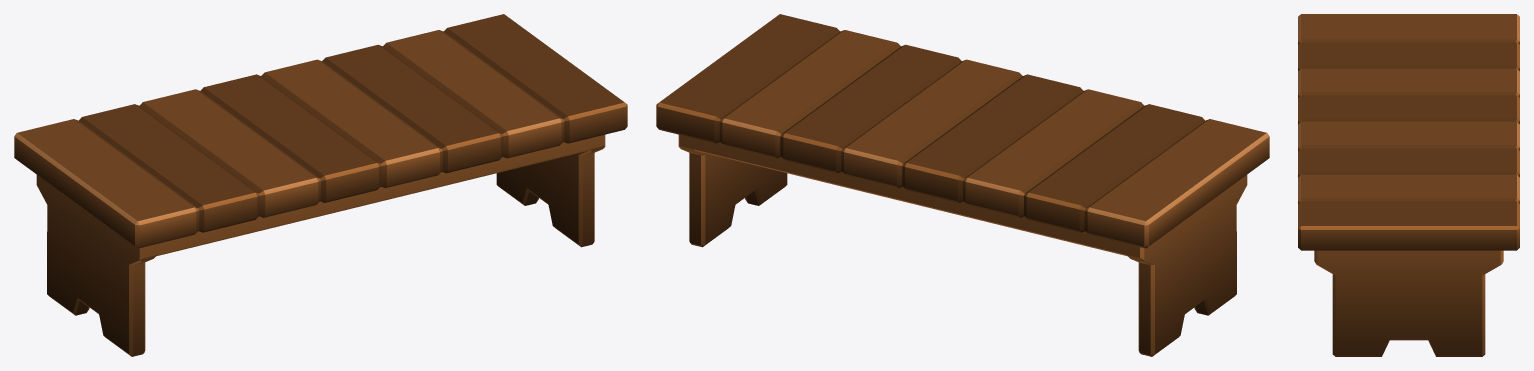
Rendered from Table-2-1.fbx.
The picture shows the model from 3 angles, left to right: view 1: azimuth 30°, elevation 25°; view 2: azimuth 150°, elevation 25°; view 3: azimuth 270°, elevation 25°; orthographic projection. The views are drawn at different scales.
Visible parts, largest first — view 1: Table-2-1; view 2: Table-2-1; view 3: Table-2-1.
Boxes of the visible parts, left/top/right/bottom form: Table-2-1: left=14, top=14, right=627, bottom=356; Table-2-1: left=656, top=14, right=1269, bottom=356; Table-2-1: left=1298, top=14, right=1519, bottom=356.
Bounding box in the file's own units: 366 × 109 × 160.
